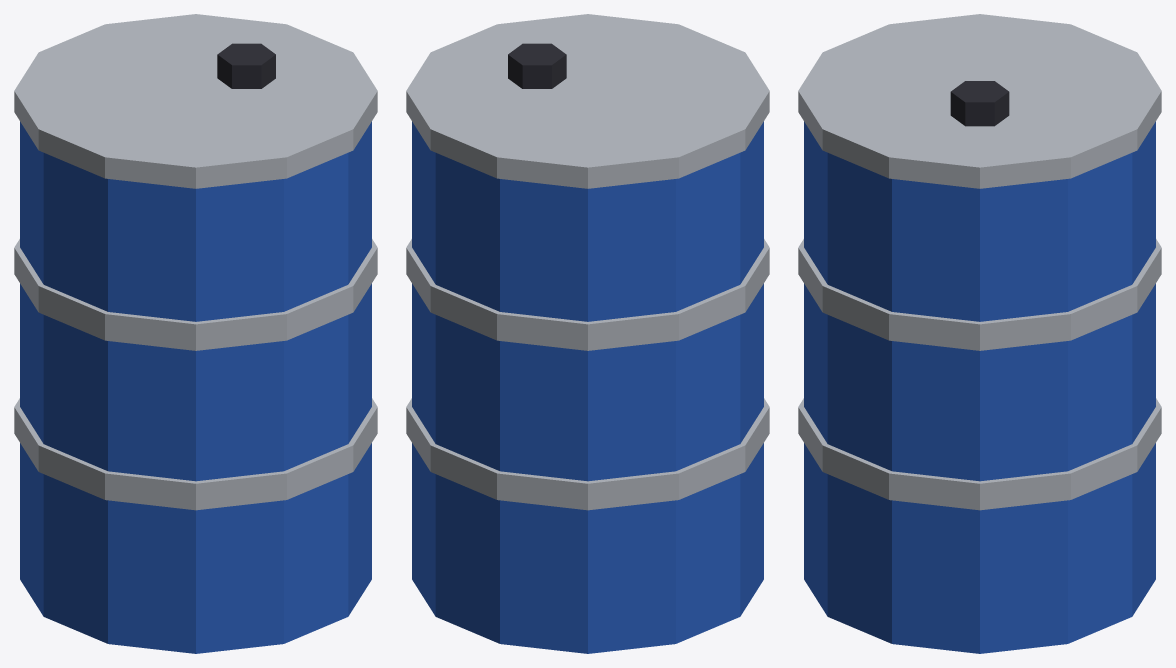
File: garage_oil_barrel.glb
3 renders of one model, left to right at view 1: azimuth 30°, elevation 25°; view 2: azimuth 150°, elevation 25°; view 3: azimuth 270°, elevation 25°, orthographic.
Visible parts, largest first — view 1: oil_barrel; view 2: oil_barrel; view 3: oil_barrel.
Boxes of the visible parts, <box> form: oil_barrel: <box>14,14,377,653</box>; oil_barrel: <box>406,14,769,653</box>; oil_barrel: <box>798,14,1161,653</box>.
Size of the model in its own units: 0.62 by 0.965 by 0.62.
